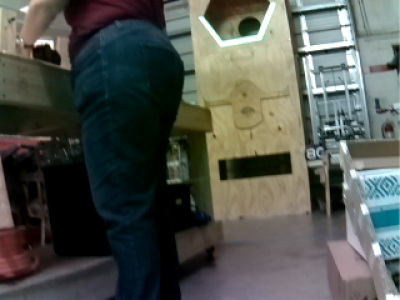target: (197, 1, 277, 47)
